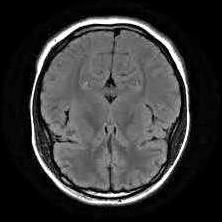Normal_Brain: (1, 1, 215, 222)
